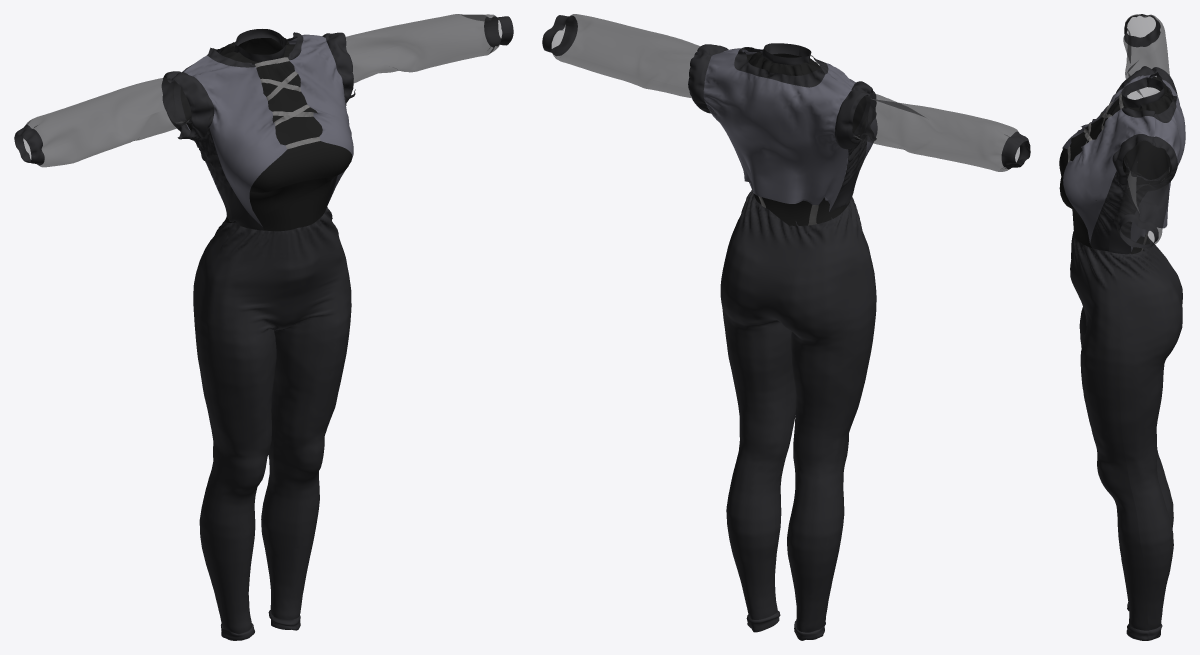
File: G_clothe6.glb
3 views of the same model, side by side, from view 1: azimuth 30°, elevation 25°; view 2: azimuth 150°, elevation 25°; view 3: azimuth 270°, elevation 25° (orthographic). The views are drawn at different scales.
Visible parts, largest first — view 1: Garment; view 2: Garment; view 3: Garment.
Boxes of the visible parts, x1,y1,x2,y2 form: Garment: (14,14,513,640); Garment: (542,14,1030,640); Garment: (1059,14,1185,640).
Bounding box in the file's own units: 1.15 × 1.35 × 0.2867.
1 material, 1 textured.
